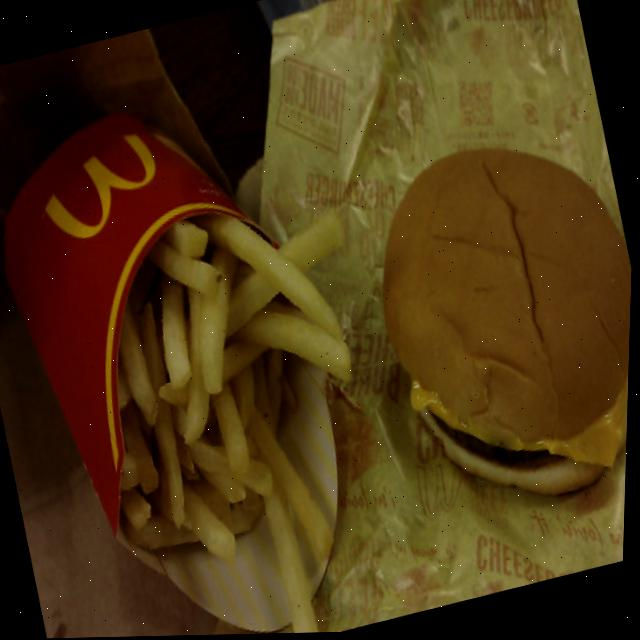汉堡快餐: (329, 99, 637, 537)
炸货点心: (0, 71, 425, 640)
